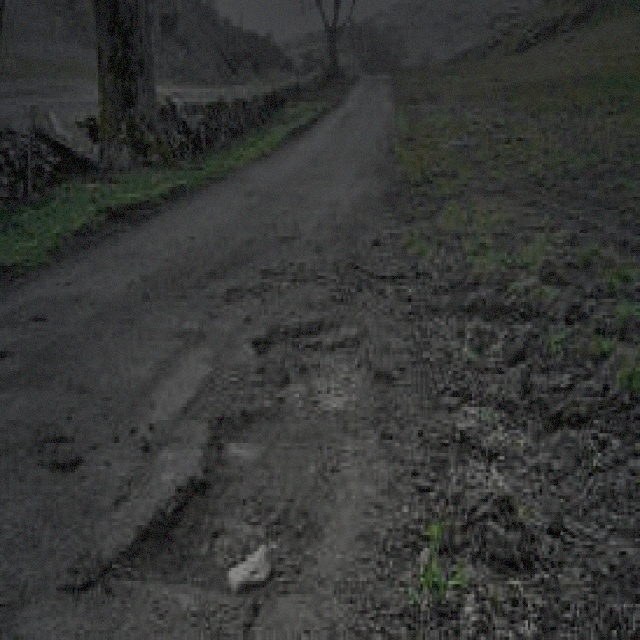pothole: (72, 404, 302, 594), (24, 413, 86, 476)
